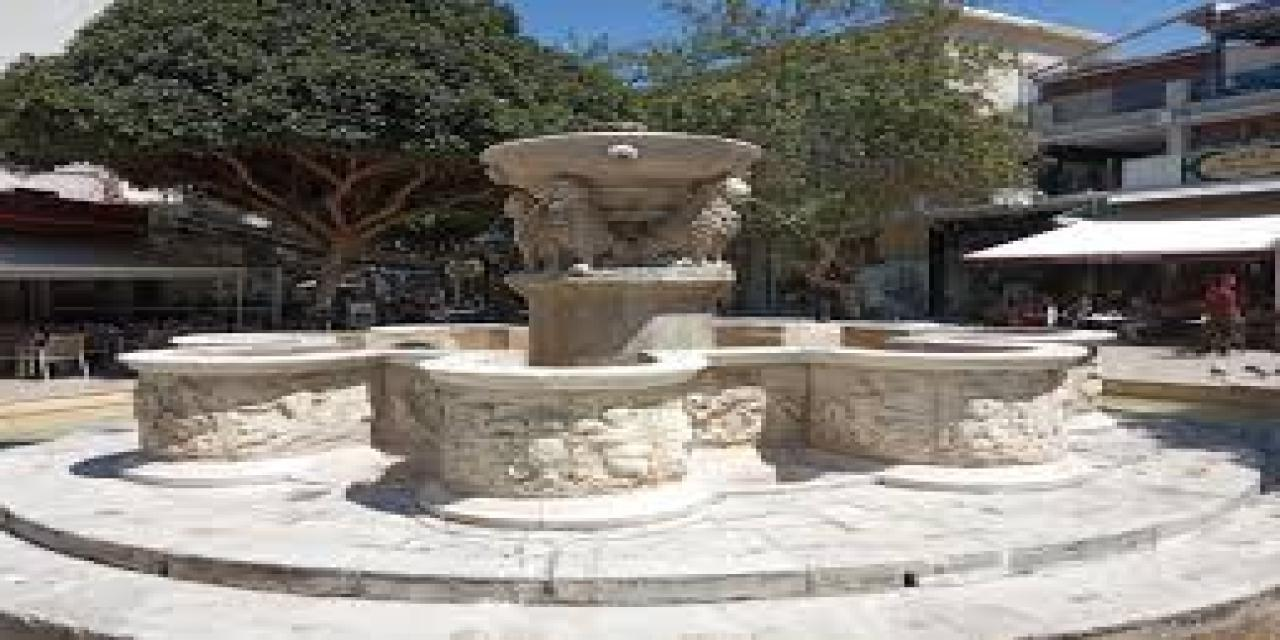Liontaria: (127, 122, 1116, 520)
